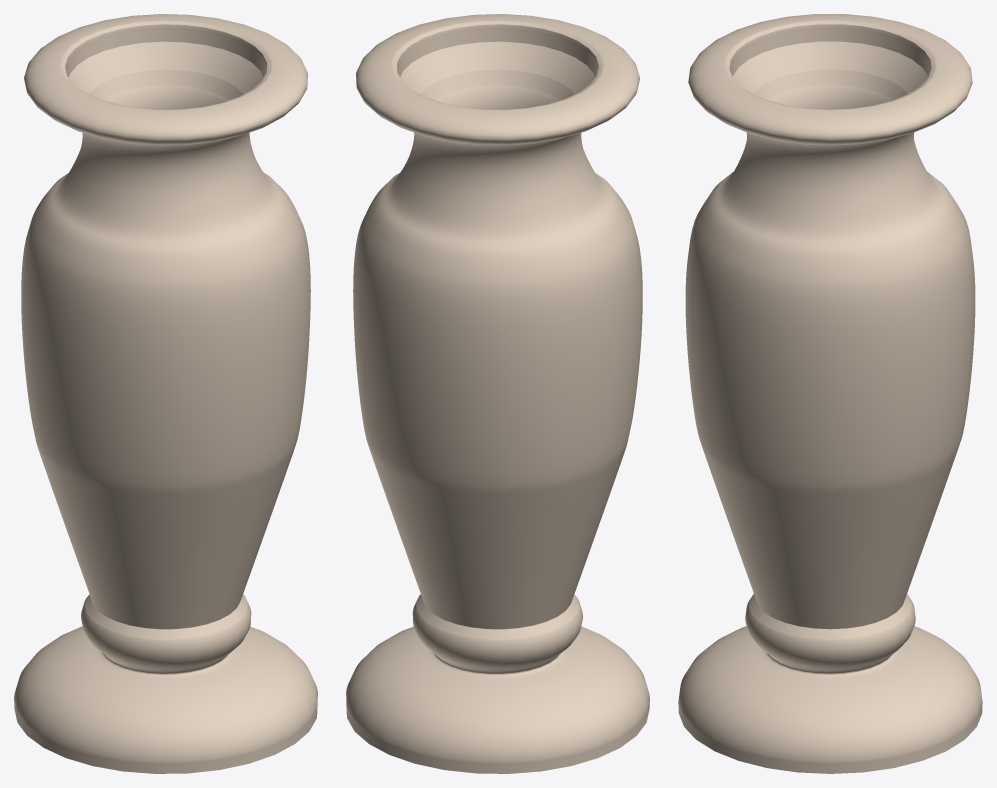
The model's file is vase (1).fbx.
3 views of the same model, side by side, from view 1: azimuth 30°, elevation 25°; view 2: azimuth 150°, elevation 25°; view 3: azimuth 270°, elevation 25° (orthographic).
Parts seen in each view (by area): view 1: vase; view 2: vase; view 3: vase.
Part boxes in pixels (x1=…): vase: x1=14, y1=14, x2=317, y2=773; vase: x1=346, y1=14, x2=649, y2=773; vase: x1=678, y1=14, x2=982, y2=773.
Size of the model in its own units: 6.26 by 14.67 by 6.27.
